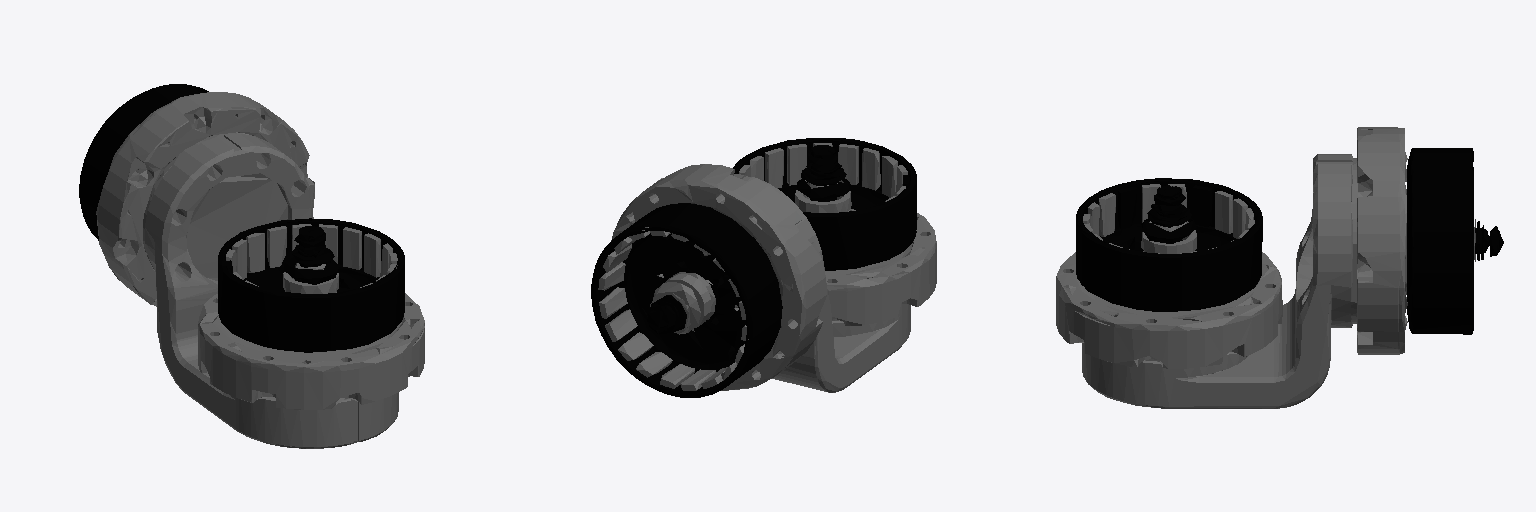
Rendered from right_lower_arm_pitch_link.obj.
3 renders of one model, left to right at view 1: azimuth 30°, elevation 25°; view 2: azimuth 150°, elevation 25°; view 3: azimuth 270°, elevation 25°, orthographic.
Visible parts, largest first — view 1: right_lower_arm_pitch_link; view 2: right_lower_arm_pitch_link; view 3: right_lower_arm_pitch_link.
Part boxes in pixels (x1,y1,x2,y2): right_lower_arm_pitch_link: (79,84,424,448); right_lower_arm_pitch_link: (591,138,936,397); right_lower_arm_pitch_link: (1056,127,1503,408).
Size of the model in its own units: 0.052 by 0.0595 by 0.1026.